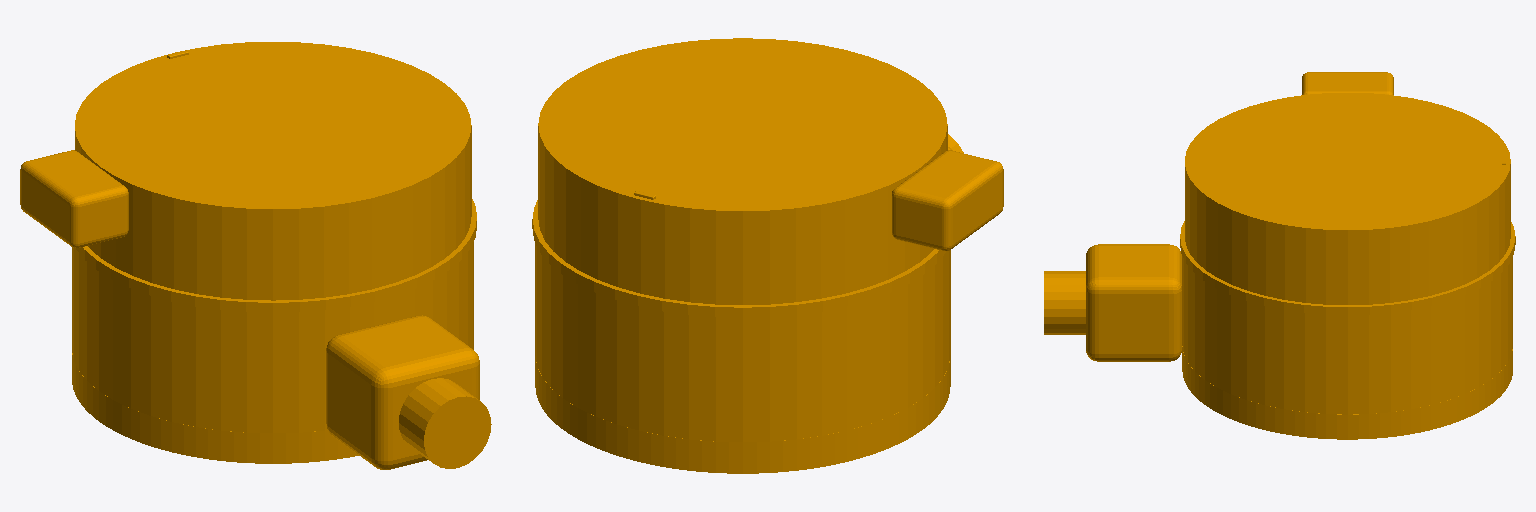
robot.urdf — onrobot_hex_e_qc:
<?xml version="1.0"?>
<robot name="onrobot_hex_e_qc">
<link name="mount"><visual ><geometry ><mesh filename="../meshes/mount.obj"/></geometry></visual><collision ><origin xyz="0 0 0.025" rpy="0 0 0"/><geometry ><cylinder radius="0.036" length="0.05"/></geometry></collision><collision ><origin xyz="0 -0.051 0.016" rpy="0 0 0"/><geometry ><box size="0.022 0.03 0.02"/></geometry></collision></link>
<link name="flange"></link>
<link name="ft_frame"></link>
<joint name="flange_joint" type="fixed"><parent link="mount"/><child link="flange"/><origin xyz="0 0 0.05" rpy="0 0 0"/></joint>
<joint name="ft_frame_joint" type="fixed"><parent link="mount"/><child link="ft_frame"/><origin xyz="0 0 0.05" rpy="0 0 0"/></joint>
</robot>

--- Render facts (derived) ---
Views: 3 orthographic renders of the robot side by side, from view 1: azimuth 30°, elevation 25°; view 2: azimuth 150°, elevation 25°; view 3: azimuth 270°, elevation 25°.
Robot: onrobot_hex_e_qc — 3 links, 2 joints (2 fixed); root link mount; default pose: every joint at zero.
Links seen in each view (by area): view 1: mount; view 2: mount; view 3: mount.
Boxes of the visible links, <box> form: mount: <box>20,42,491,469</box>; mount: <box>532,38,1003,473</box>; mount: <box>1044,72,1515,439</box>.
Size in the robot's own frame: 0.0835 by 0.1025 by 0.0505 metres.
Meshes: 1 distinct files referenced, 1 mesh visuals loaded (1 OBJ).
